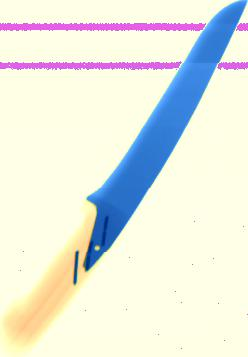Knife: (1, 1, 248, 349)
